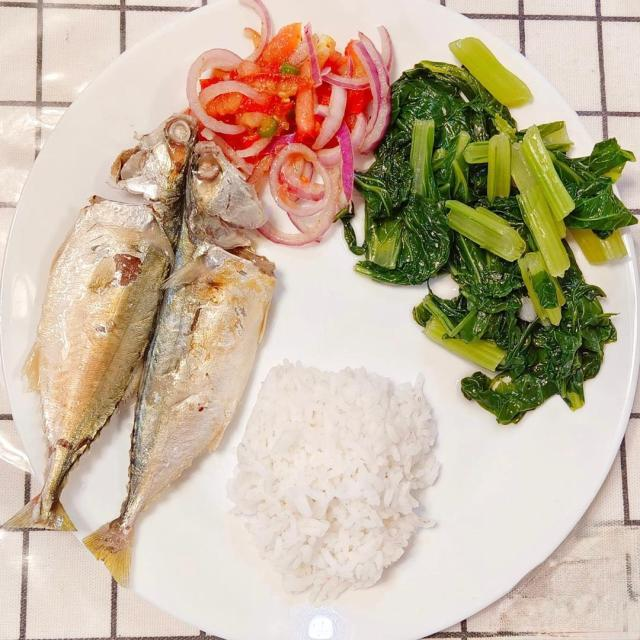Fish: (0, 117, 277, 587)
Plate: (390, 264, 633, 632)
Rice: (231, 362, 447, 611)
Vegetables: (187, 0, 639, 428)
